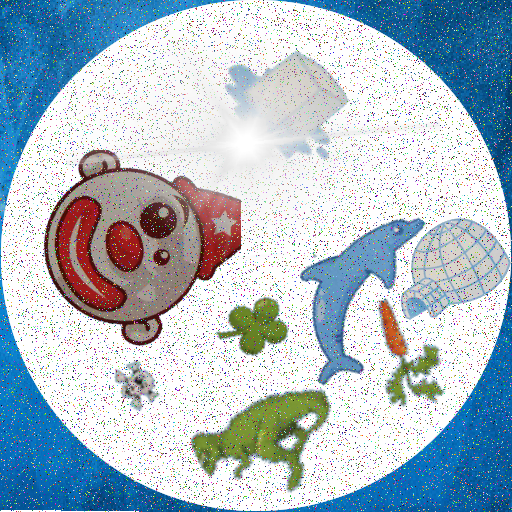carrot_icon: (338, 298, 457, 417)
cloverleaf_icon: (215, 284, 290, 359)
clown_icon: (41, 150, 241, 350)
cube_icon: (221, 24, 367, 170)
dino_icon: (189, 354, 334, 499)
dolphin_icon: (263, 196, 454, 387)
igloo_icon: (386, 213, 512, 339)
skull_icon: (111, 359, 165, 413)
